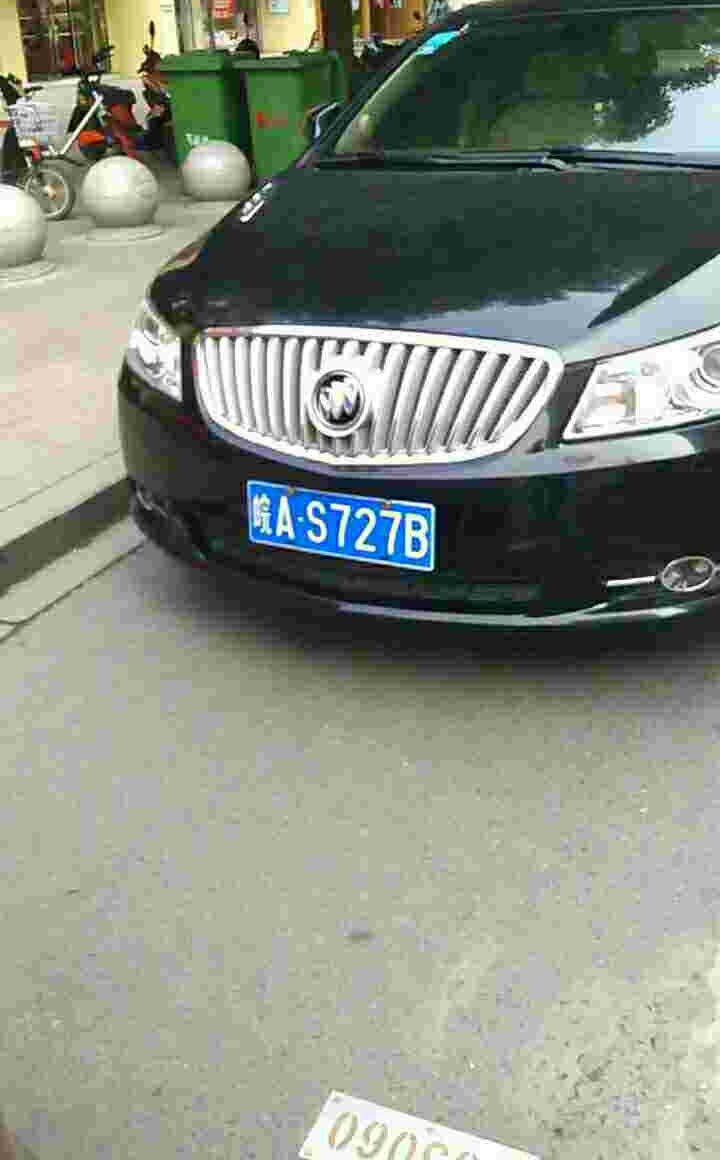license_plate: (245, 480, 443, 578)
